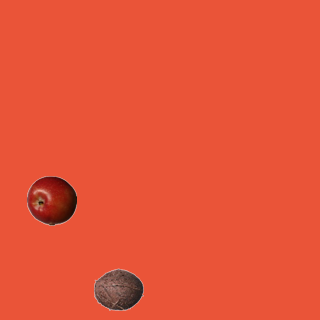Apple Braeburn: (26, 175, 76, 225)
Cocos: (93, 264, 143, 314)
